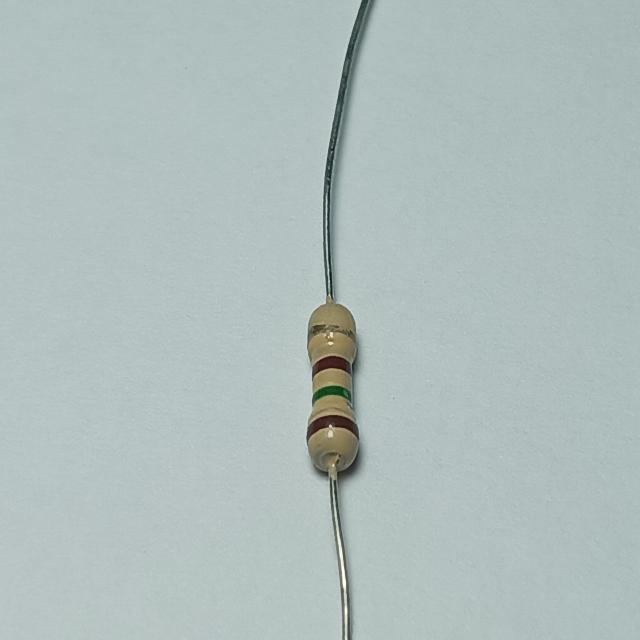150 ohms: (295, 298, 371, 490)
